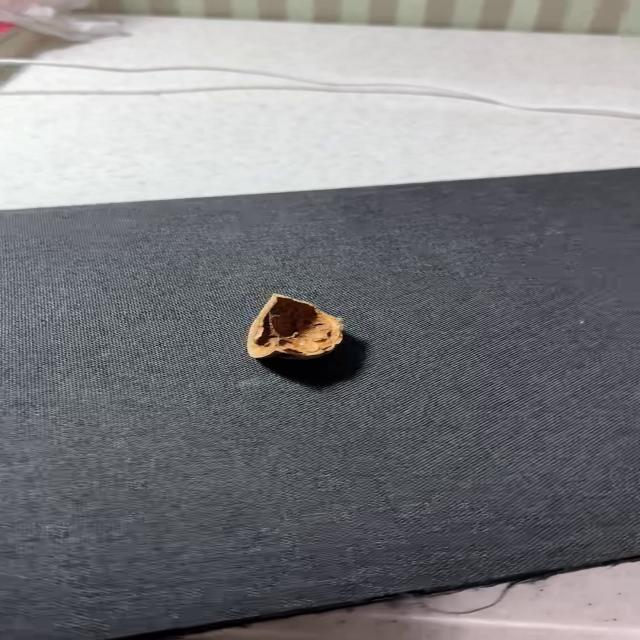nuts-bad0.25: (247, 294, 342, 359)
